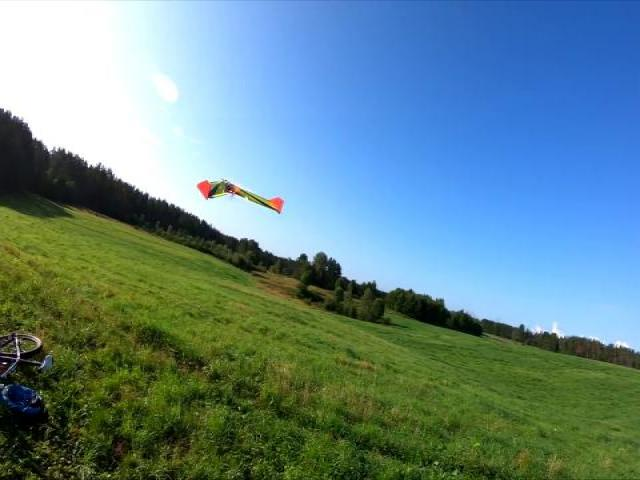flying wing: (198, 174, 286, 218)
